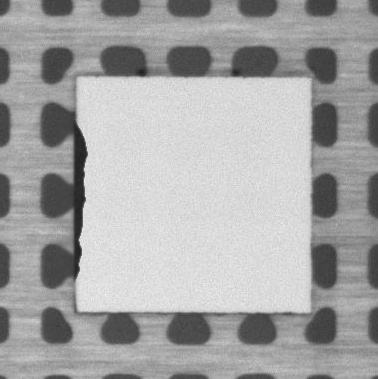DIE_BROKEN: (71, 124, 90, 288)
